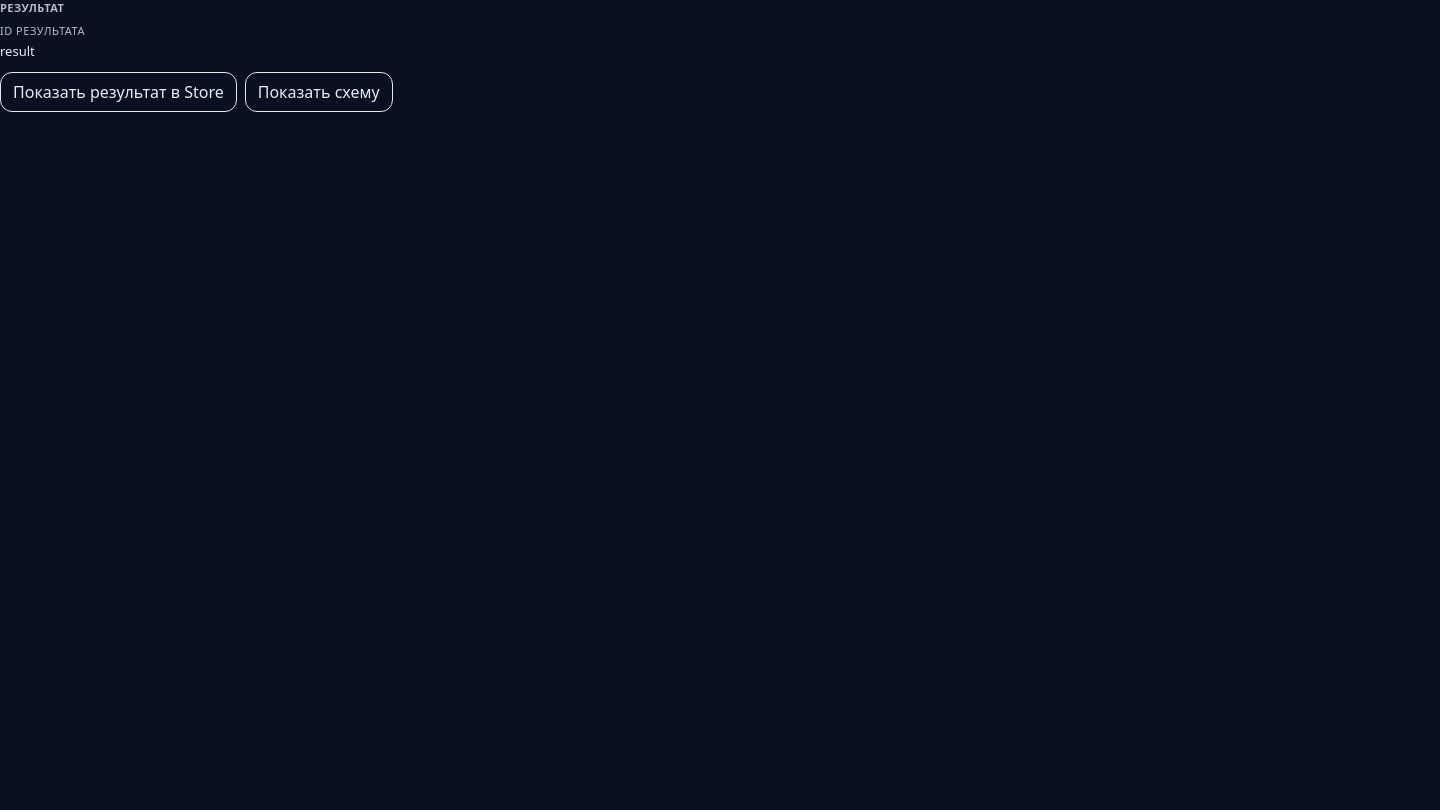
Test: StoredResultCard › reports a row that exceeds the page limit
Click the button "Показать результат в Store": (118, 92) x1=0 y1=72 x2=237 y2=112
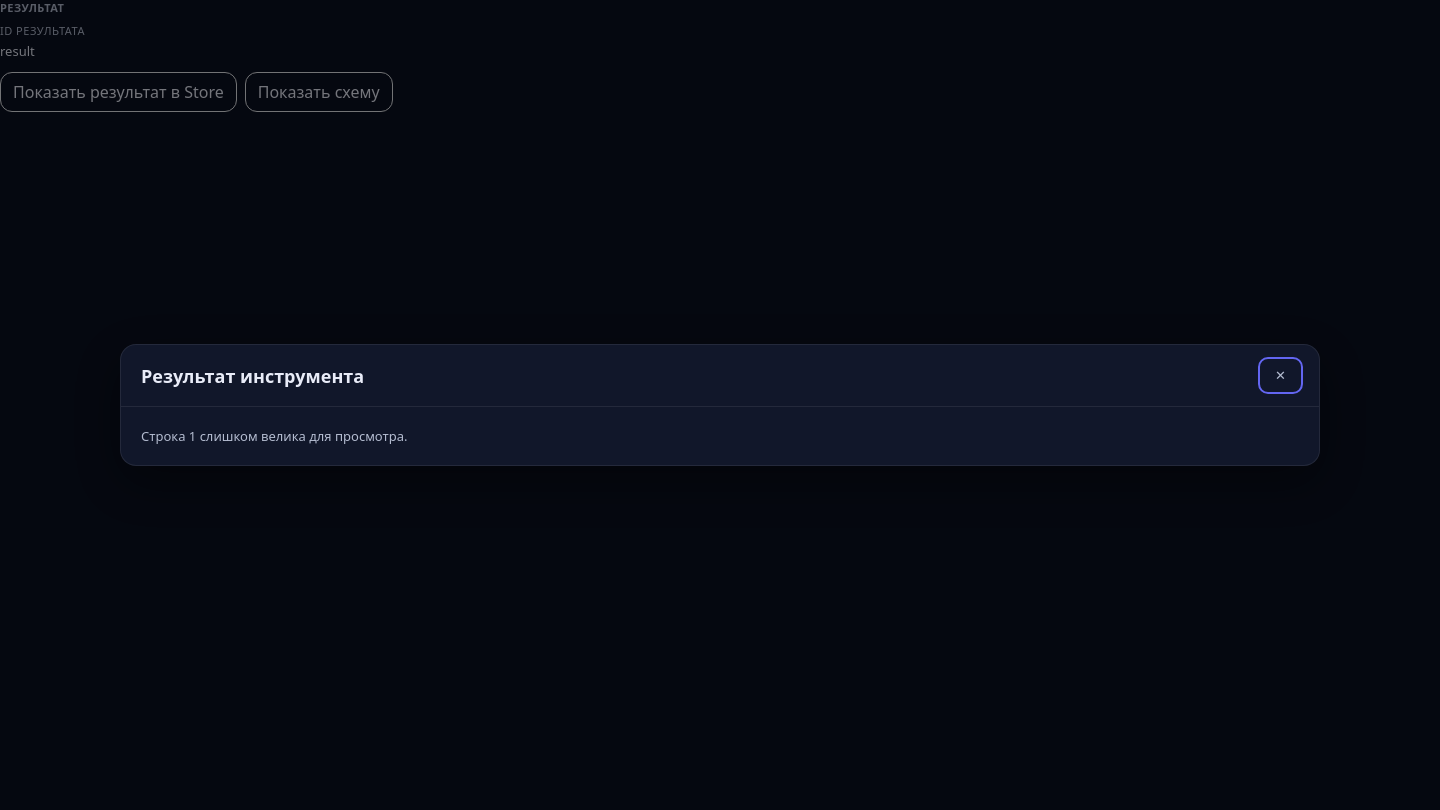
Expected: the text "Строка 1 слишком велика для просмотра." is shown, x1=141 y1=427 x2=408 y2=445
